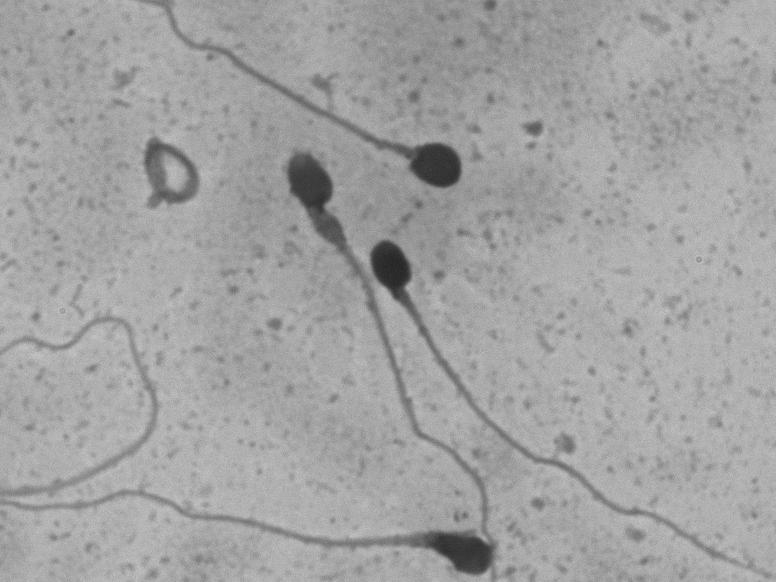Abnormal: (356, 221, 766, 574), (251, 140, 518, 526), (201, 89, 477, 205)
